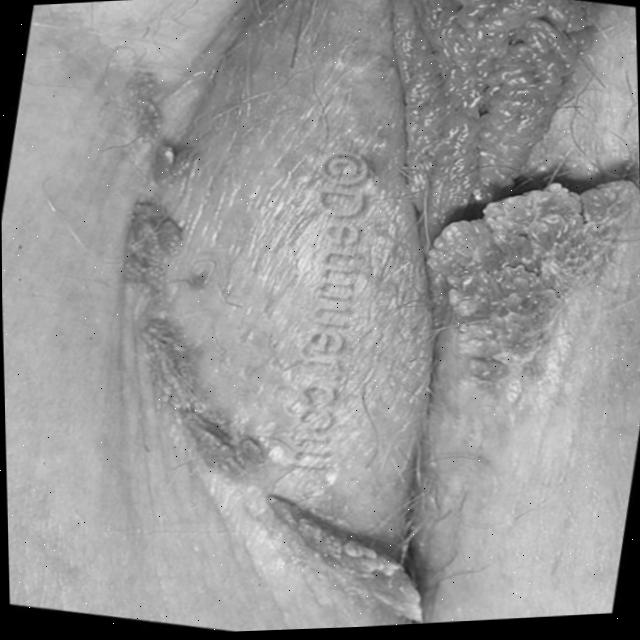Shingles: (125, 128, 409, 626), (417, 0, 640, 390)
